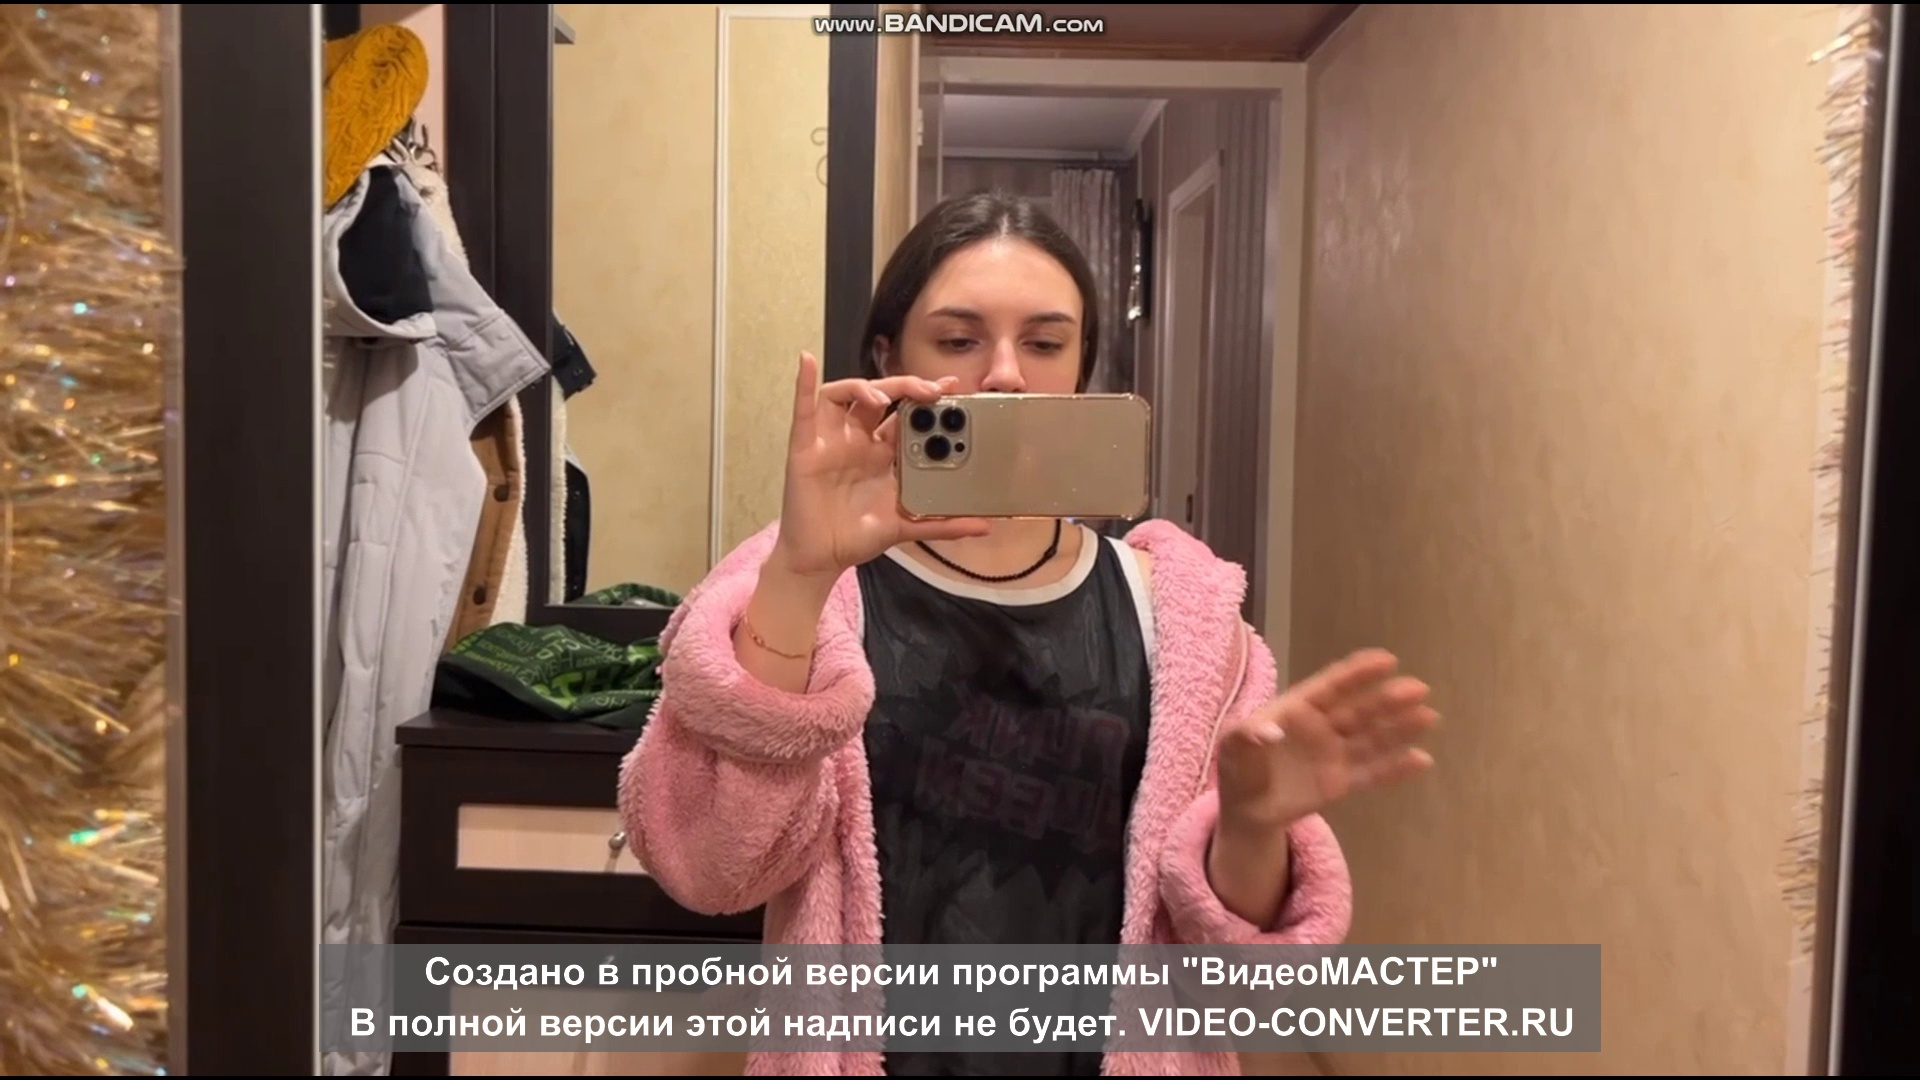Ладонь: (1216, 642, 1439, 828)
